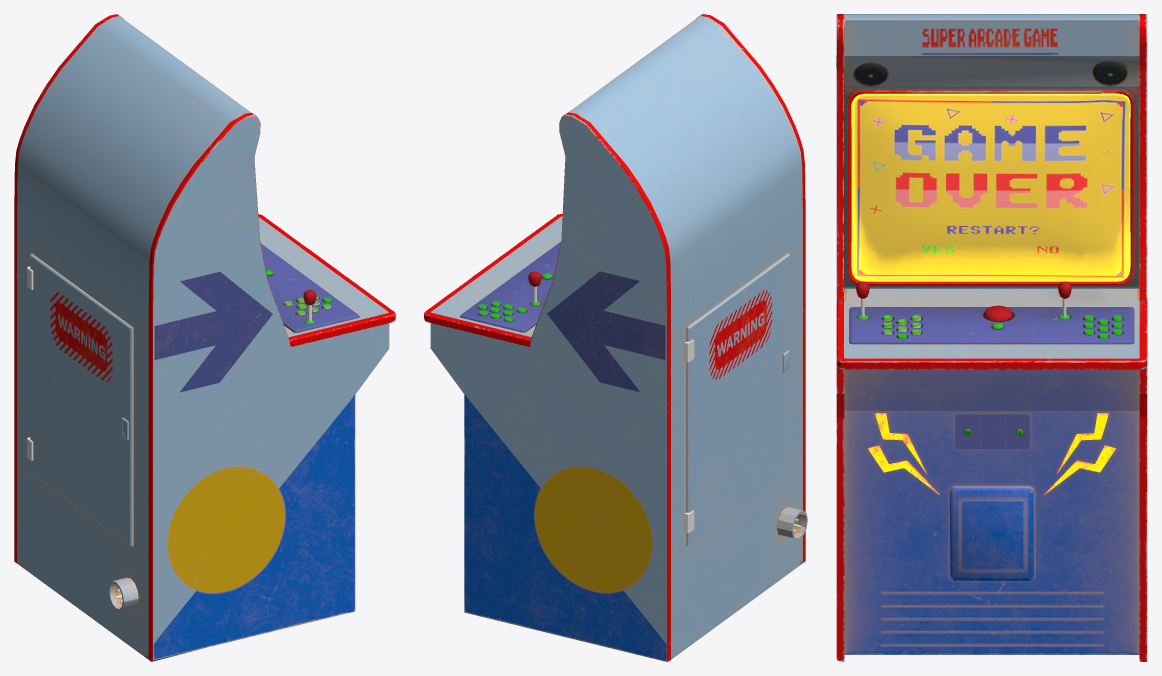
File: showcaseBlockfallCabinet.679d52fe.glb
3 renders of one model, left to right at view 1: azimuth 30°, elevation 25°; view 2: azimuth 150°, elevation 25°; view 3: azimuth 270°, elevation 25°, orthographic. The views are drawn at different scales.
Parts seen in each view (by area): view 1: lowpolyok:004__desktop_baseLP_Cube:069:005.002_arcade_machin; view 2: lowpolyok:004__desktop_baseLP_Cube:069:005.002_arcade_machin; view 3: lowpolyok:004__desktop_baseLP_Cube:069:005.002_arcade_machin.
Part boxes in pixels (x1=…): lowpolyok:004__desktop_baseLP_Cube:069:005.002_arcade_machin: x1=14, y1=14, x2=395, y2=661; lowpolyok:004__desktop_baseLP_Cube:069:005.002_arcade_machin: x1=424, y1=14, x2=807, y2=661; lowpolyok:004__desktop_baseLP_Cube:069:005.002_arcade_machin: x1=836, y1=14, x2=1147, y2=661.
Size of the model in its own units: 1.08 by 2.06 by 0.9889.
Materials: 1 (1 with a texture image).
